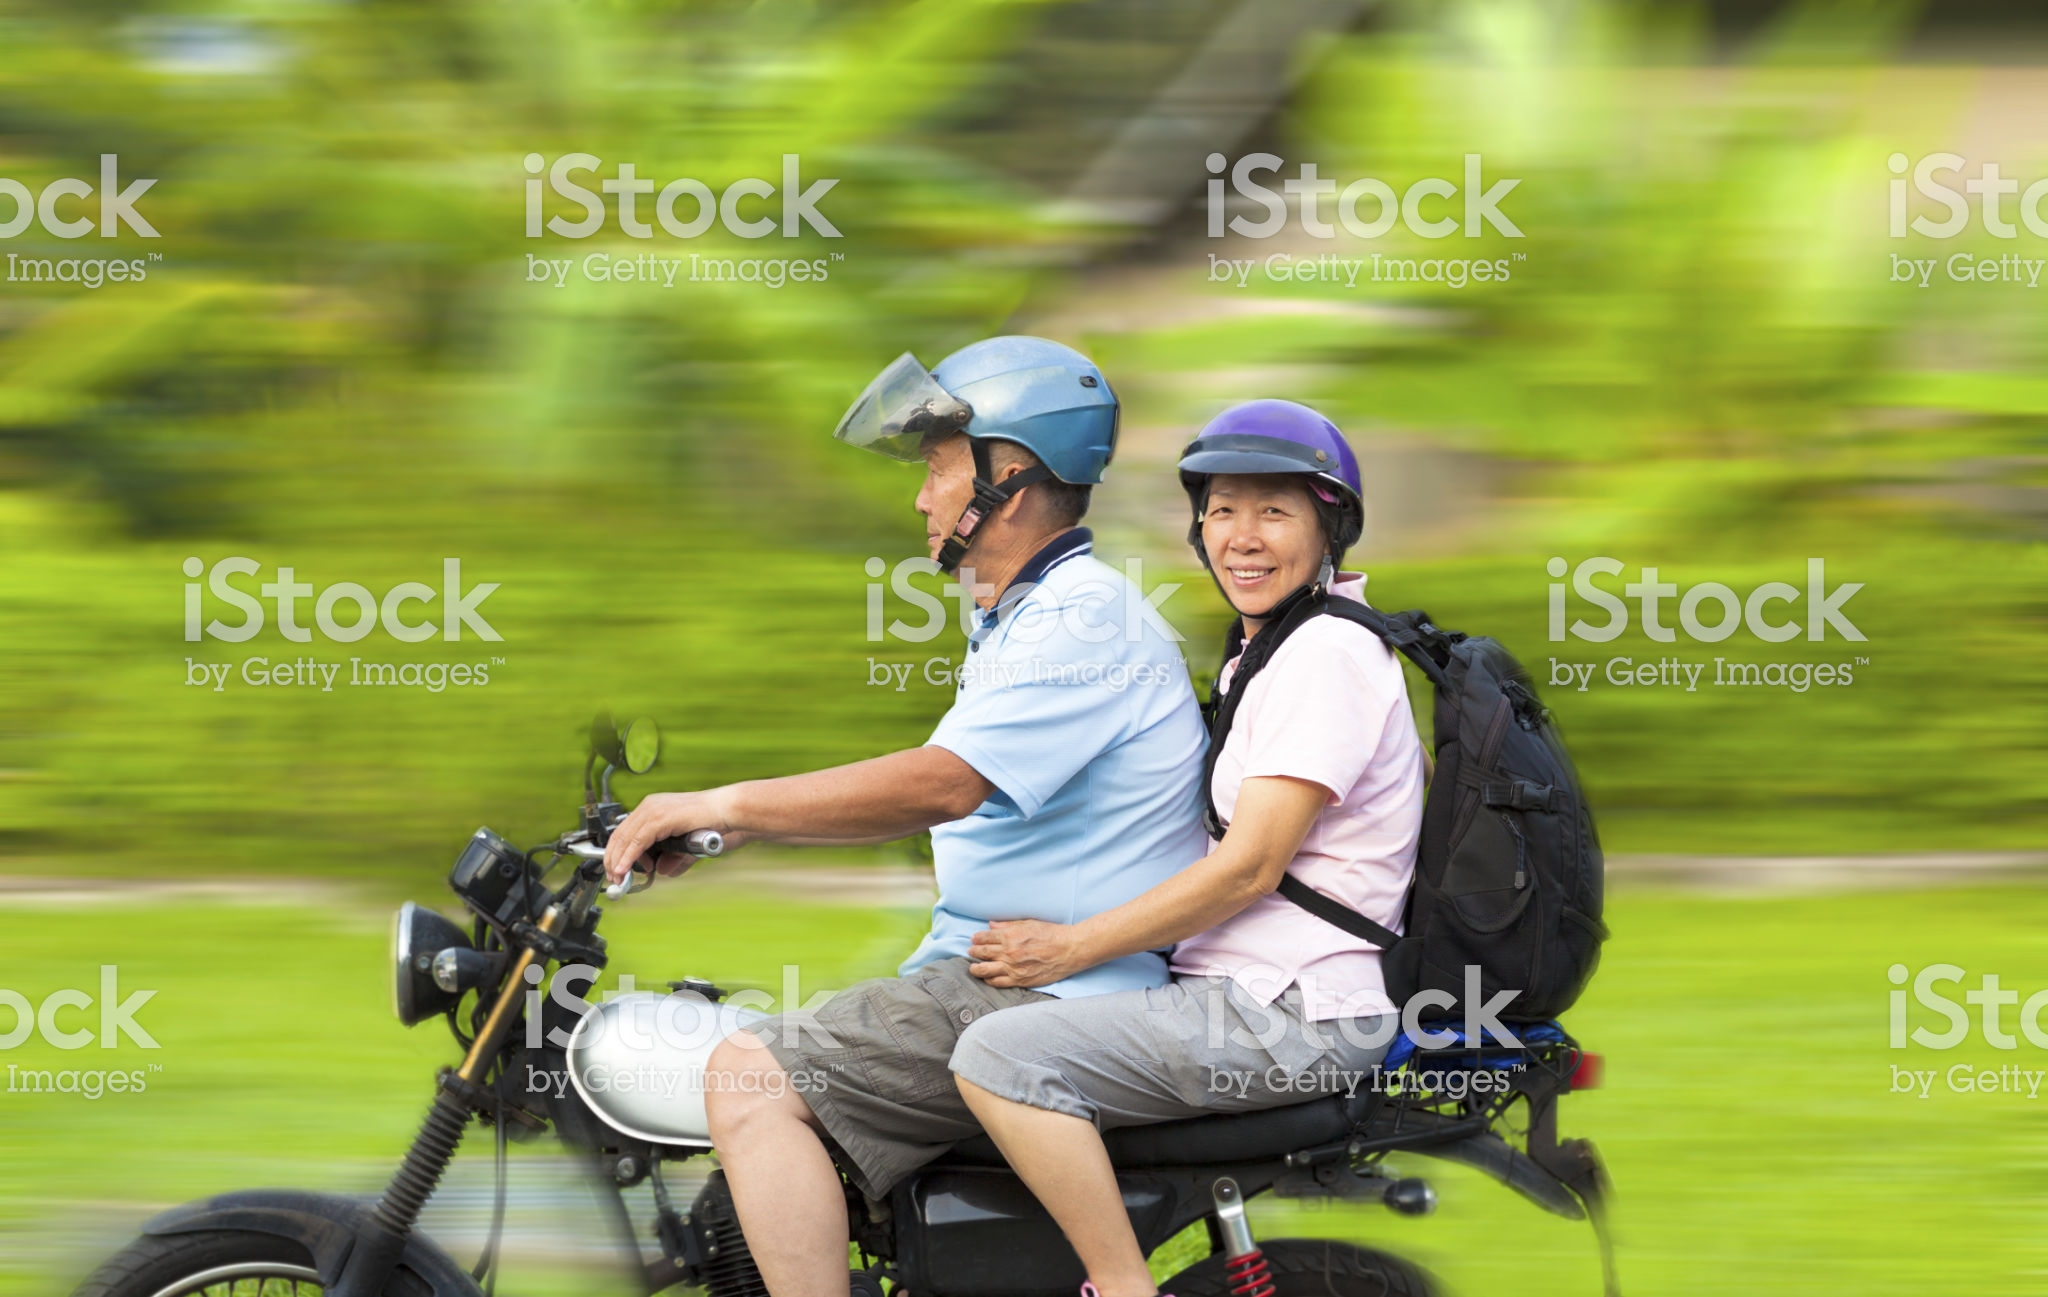helmet: (914, 333, 1142, 488), (1197, 381, 1402, 519)
